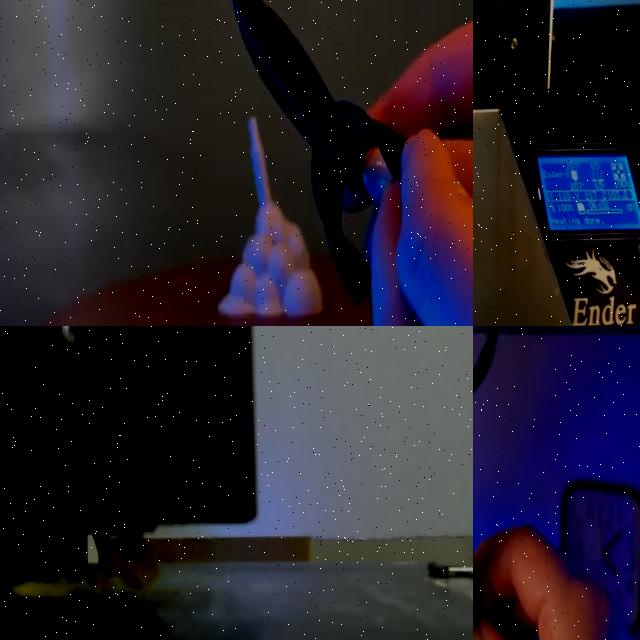spaghetti: (14, 569, 121, 600), (117, 545, 158, 597)
